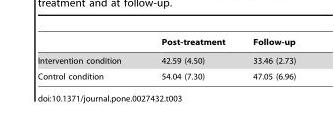table: (37, 37, 295, 80)
table column: (37, 37, 140, 80), (140, 37, 238, 80), (238, 37, 295, 80)
table column header: (37, 37, 295, 51)
table row: (37, 51, 295, 68), (37, 37, 295, 51), (37, 68, 295, 80)
